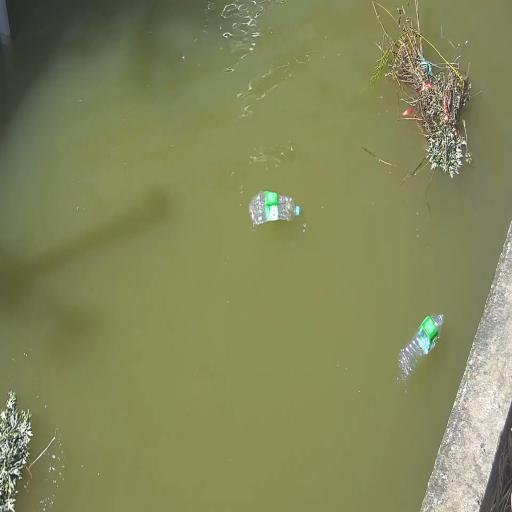plastic: (399, 315, 443, 380), (249, 191, 299, 227), (296, 206, 299, 216)
twig: (370, 9, 472, 178), (0, 392, 32, 512)
